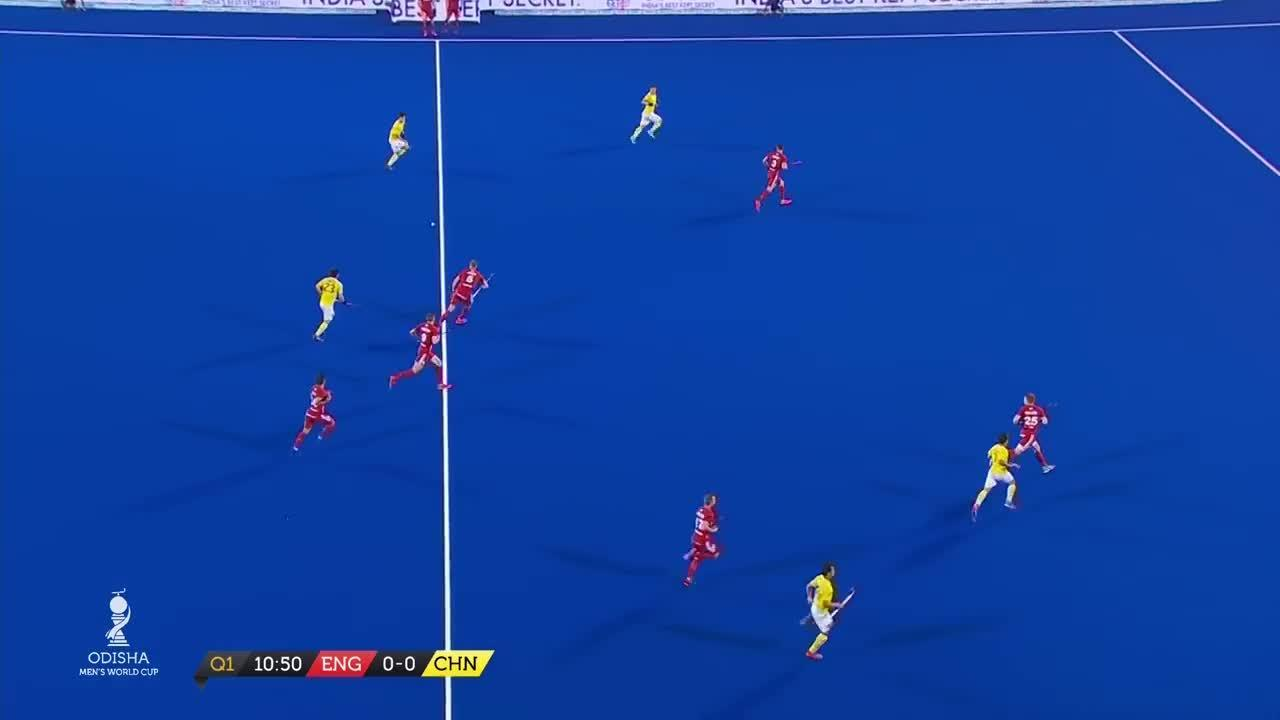ball: (428, 218, 439, 228)
